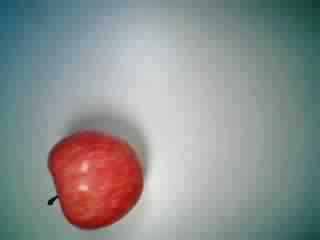apple: (44, 128, 147, 232)
